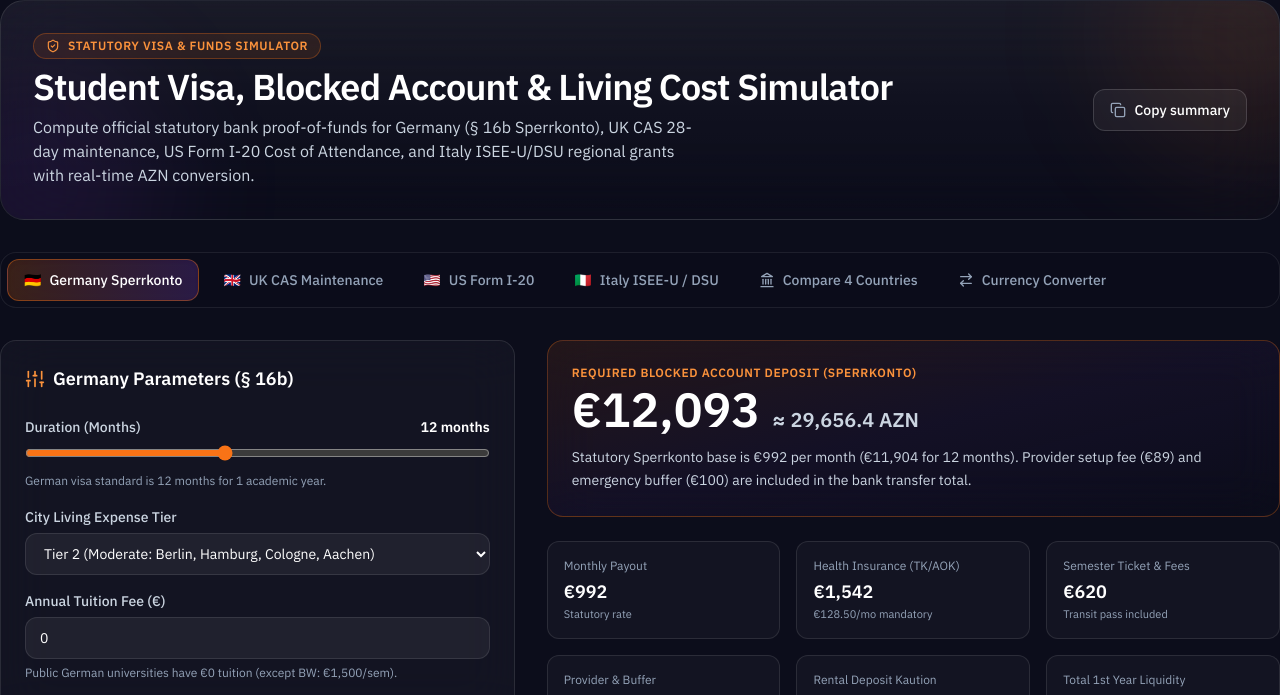
Test case: FinanceSimulator Component › switches to US tab and displays Form I-20 Cost of Attendance
Click the button "🇺🇸 US Form I-20": (479, 280) [407, 259, 550, 301]
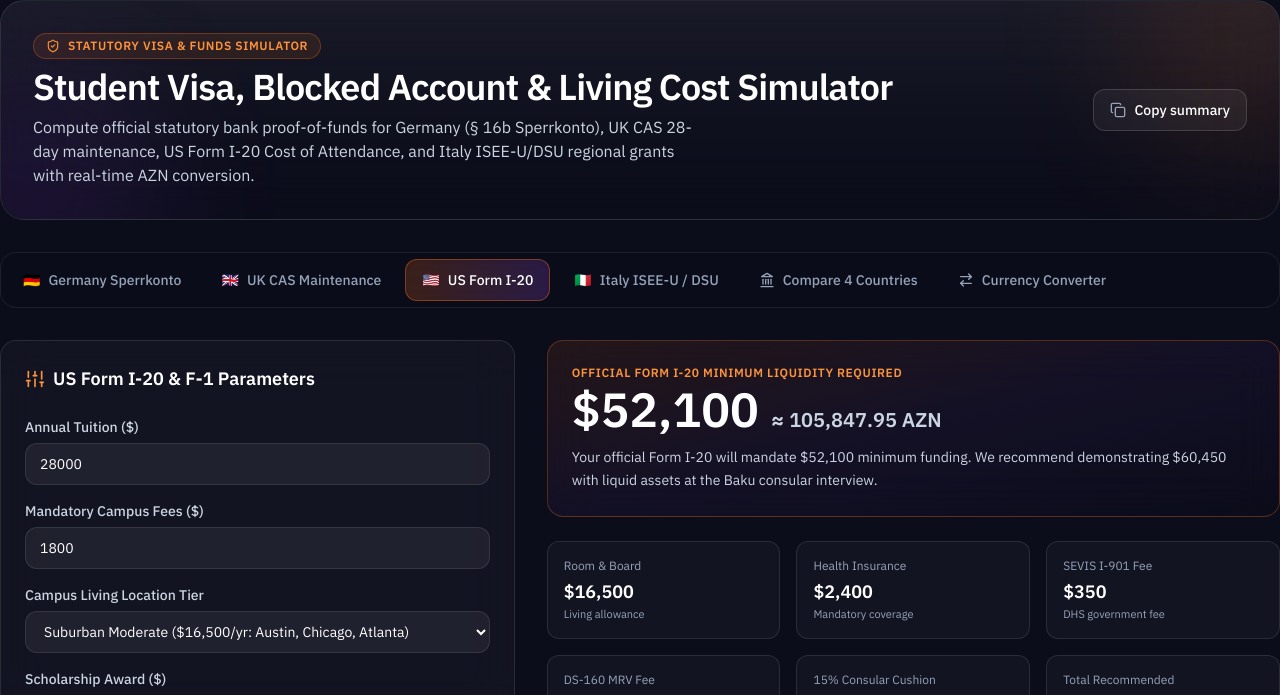
Now the heading "US Form I-20 & F-1 Parameters" is shown, box [25, 367, 315, 390]
Now the text "Official Form I-20 Minimum Liquidity Required" is shown, box [572, 365, 902, 380]
Now the text "SEVIS I-901 Fee" is shown, box [1063, 558, 1152, 572]
